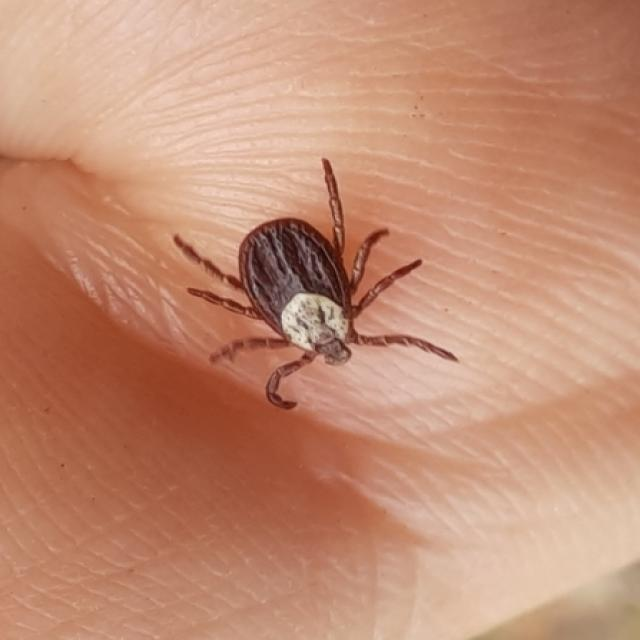Dermacentor Reticulatus-F: (173, 159, 458, 408)
